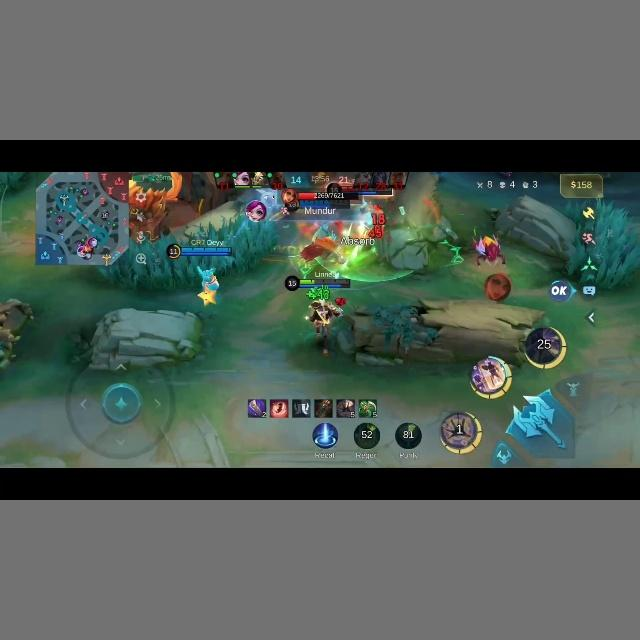hp_enemy: (298, 185, 398, 206), (300, 190, 336, 199), (356, 189, 393, 196)
hp_self: (171, 241, 235, 256), (298, 275, 355, 289)
red_baff: (142, 184, 184, 231)
